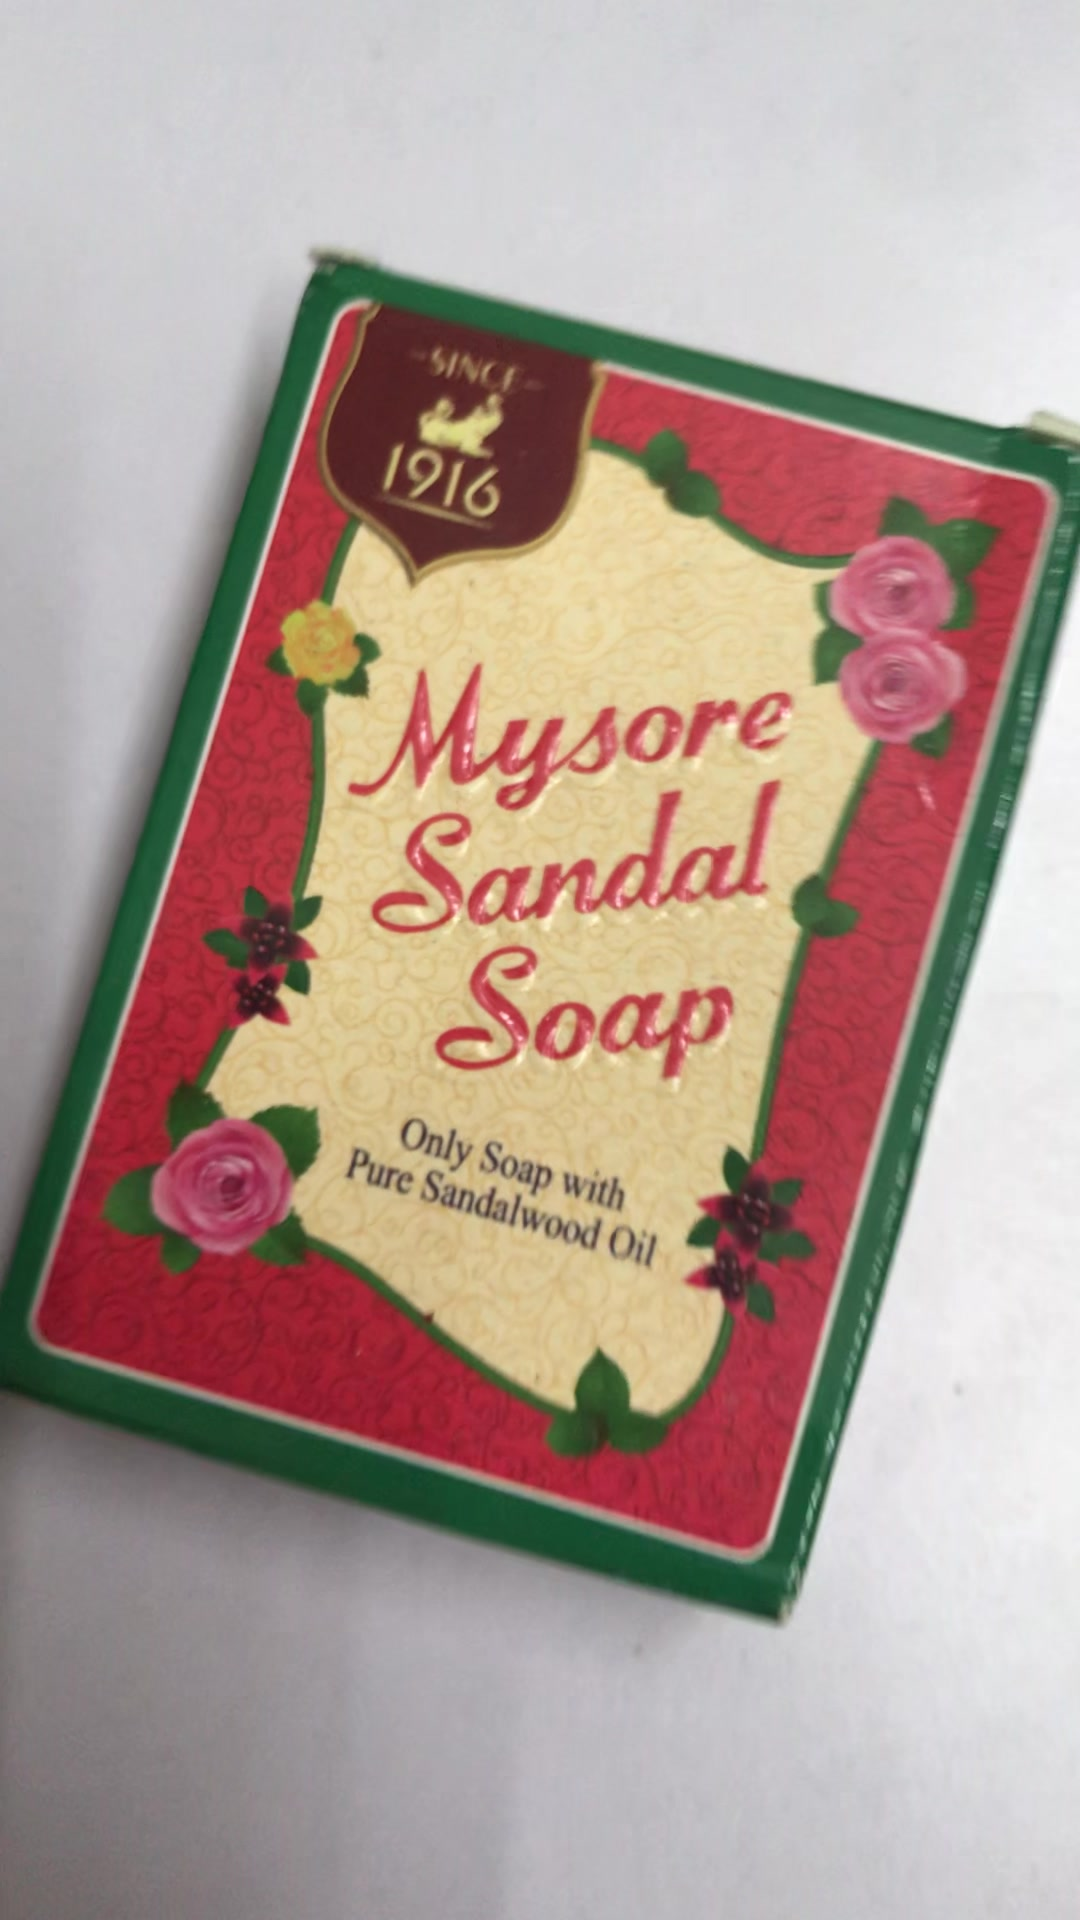mysore sandal soap: (13, 266, 1034, 1633)
